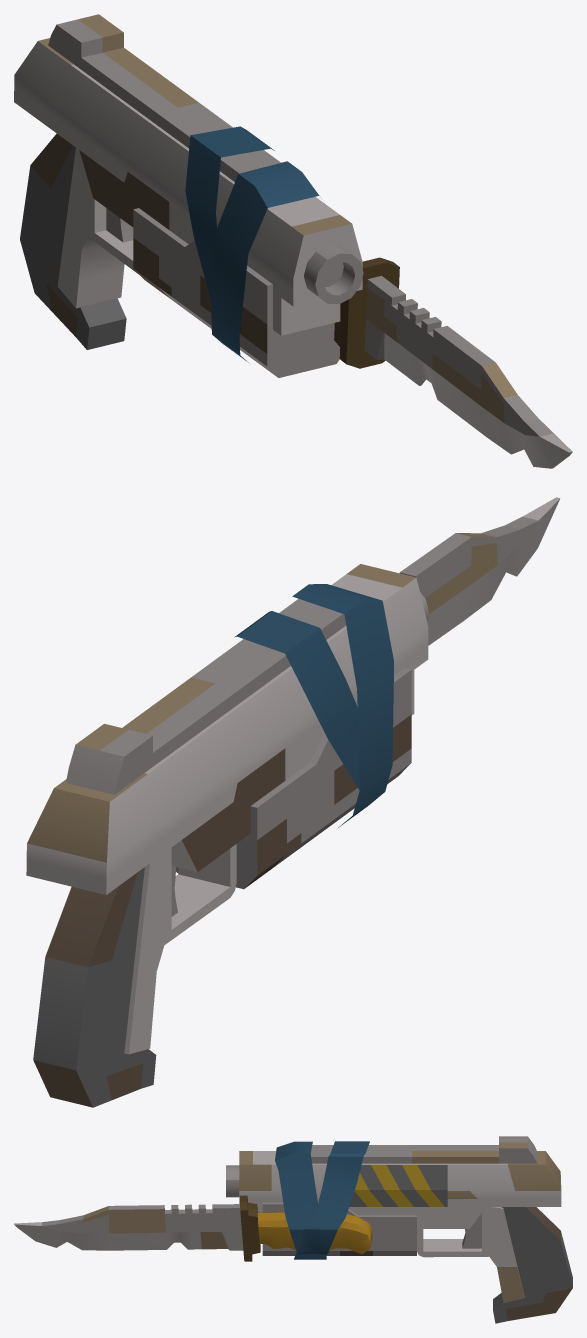
Rendered from gun_pistol.glb.
The picture shows the model from 3 angles, top to bottom: view 1: azimuth 30°, elevation 25°; view 2: azimuth 150°, elevation 25°; view 3: azimuth 270°, elevation 25°; orthographic projection. The views are drawn at different scales.
Parts seen in each view (by area): view 1: Pistol; view 2: Pistol; view 3: Pistol.
Part boxes in pixels (box(x1,y1,x2,y2)): Pistol: box(14, 14, 572, 468); Pistol: box(26, 497, 560, 1107); Pistol: box(14, 1136, 572, 1323).
Size of the model in its own units: 0.1412 by 0.3397 by 0.9764.
Materials: 1 (1 with a texture image).
